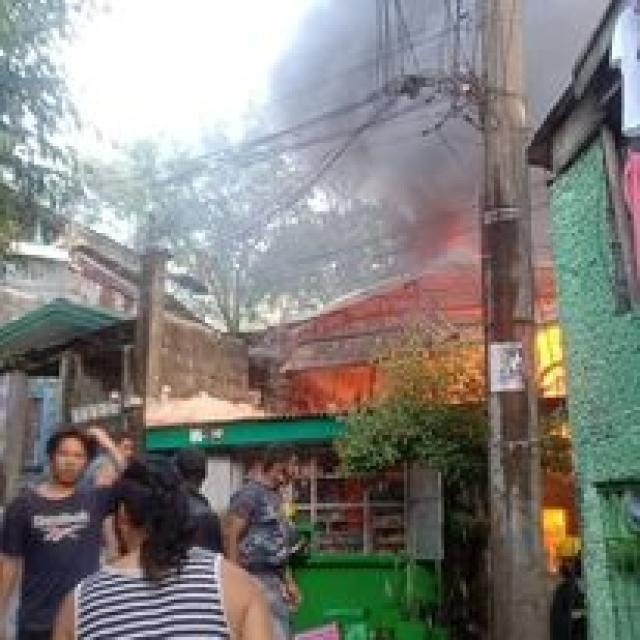Fire: (285, 346, 397, 418), (522, 312, 582, 408)
Smoke: (273, 0, 610, 256)
